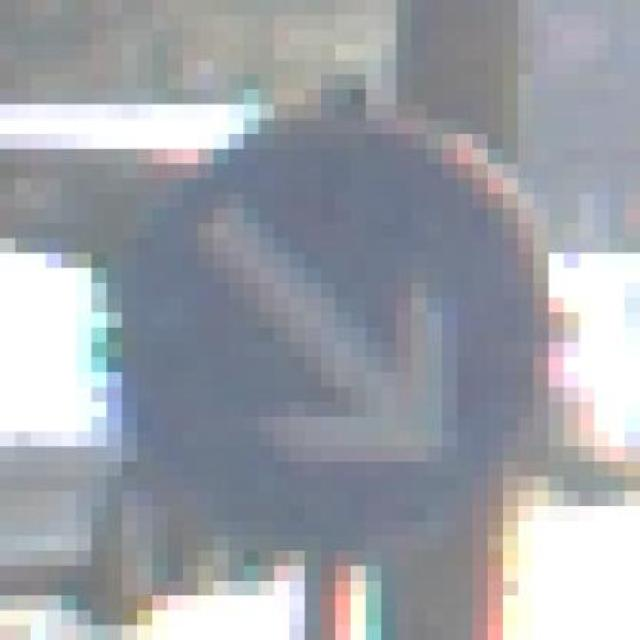Keep-Right: (107, 59, 579, 552)
